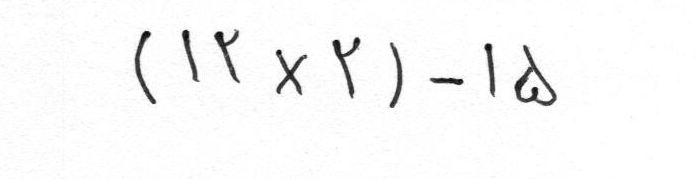character: (515, 45, 557, 110), (333, 36, 362, 99), (135, 30, 157, 105), (214, 29, 242, 85), (275, 49, 306, 94), (388, 42, 407, 109), (181, 30, 199, 83), (485, 42, 497, 99), (429, 77, 464, 87)
